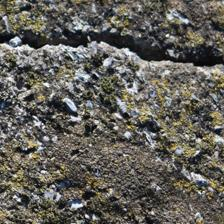Crack: (2, 10, 213, 71)
